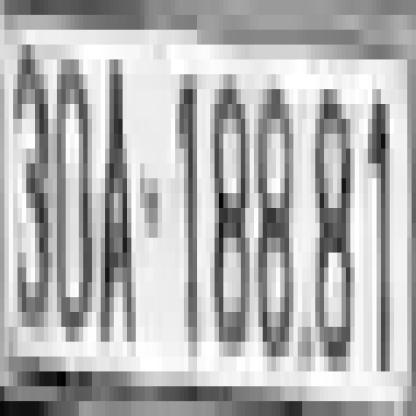0: (53, 59, 92, 327)
1: (171, 89, 206, 342), (364, 89, 394, 357)
3: (13, 59, 48, 312)
8: (311, 89, 350, 342), (250, 89, 289, 342), (206, 89, 245, 342)
A: (100, 74, 136, 327)
